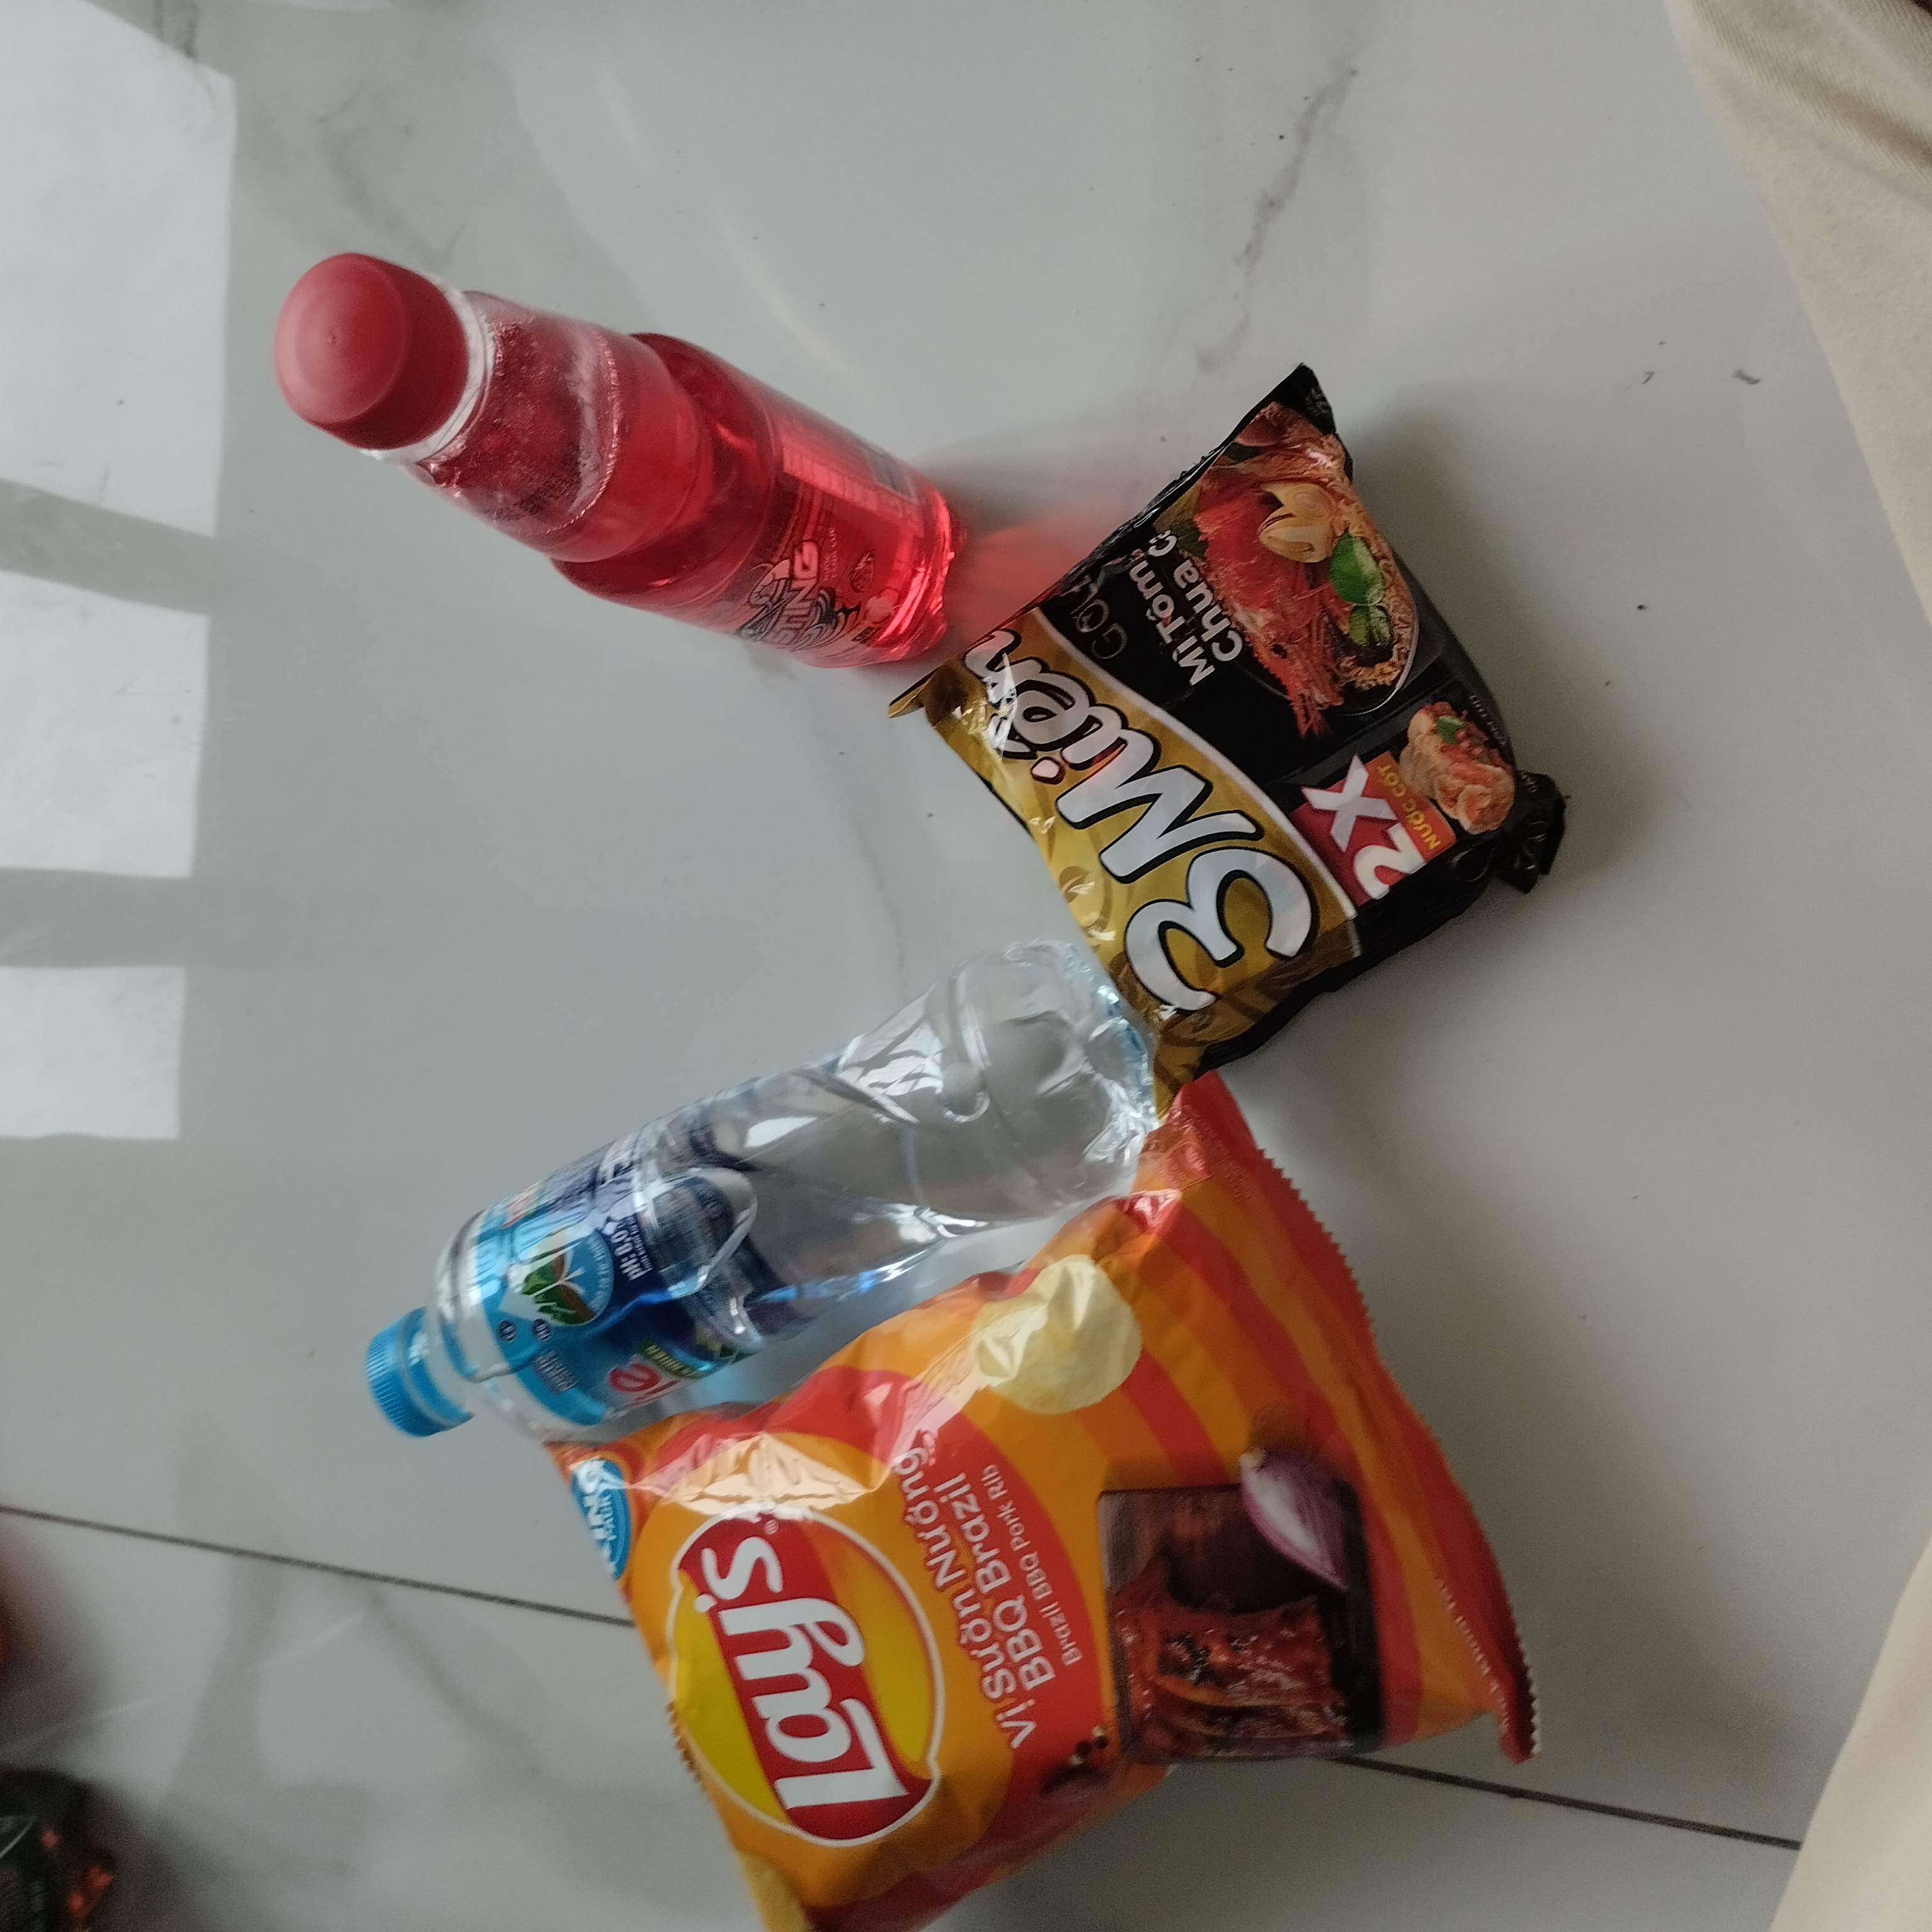3mien: (890, 364, 1571, 1065)
Lavie: (347, 941, 1161, 1451)
Lays: (543, 1077, 1553, 1932)
Sting: (271, 241, 966, 665)
